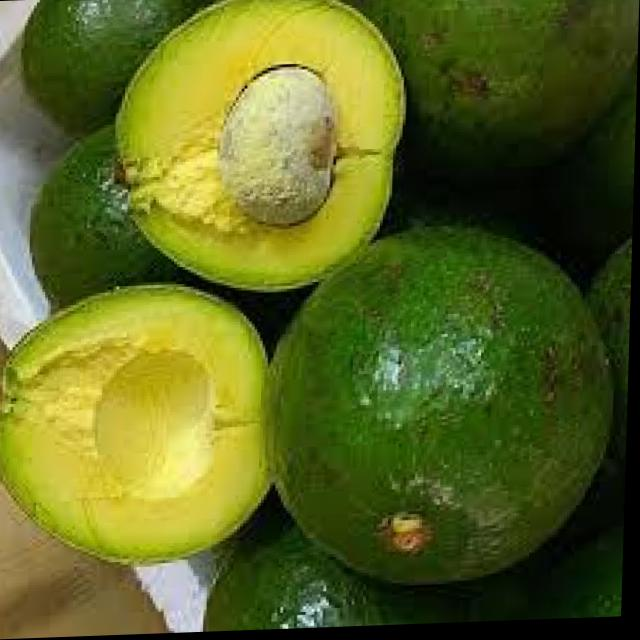Bo: (278, 224, 627, 608), (99, 0, 431, 302), (0, 267, 280, 585)
